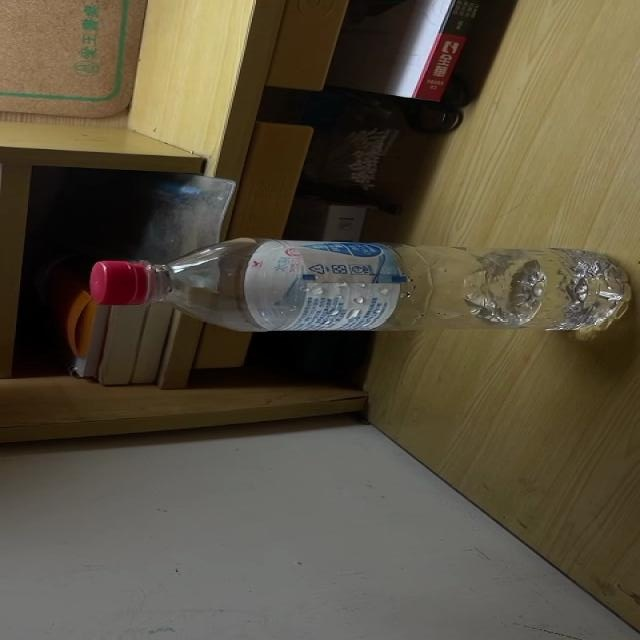Water: (88, 238, 636, 332)
